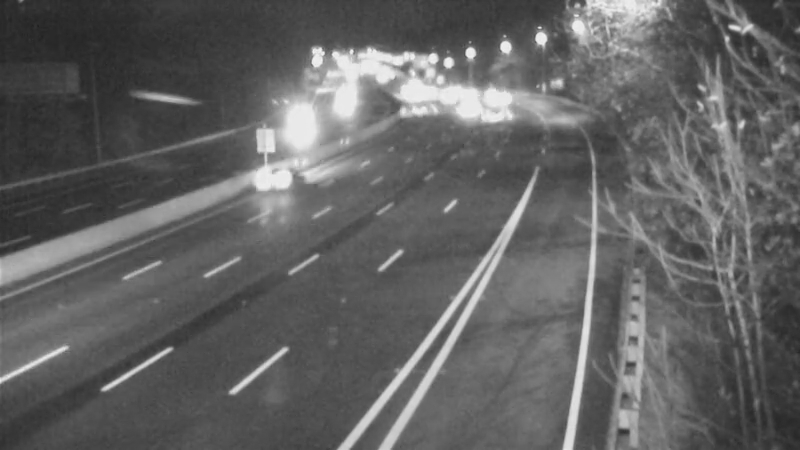vehicle: (237, 140, 317, 220), (439, 84, 489, 134), (395, 80, 445, 130), (467, 91, 517, 141), (273, 92, 323, 142)
